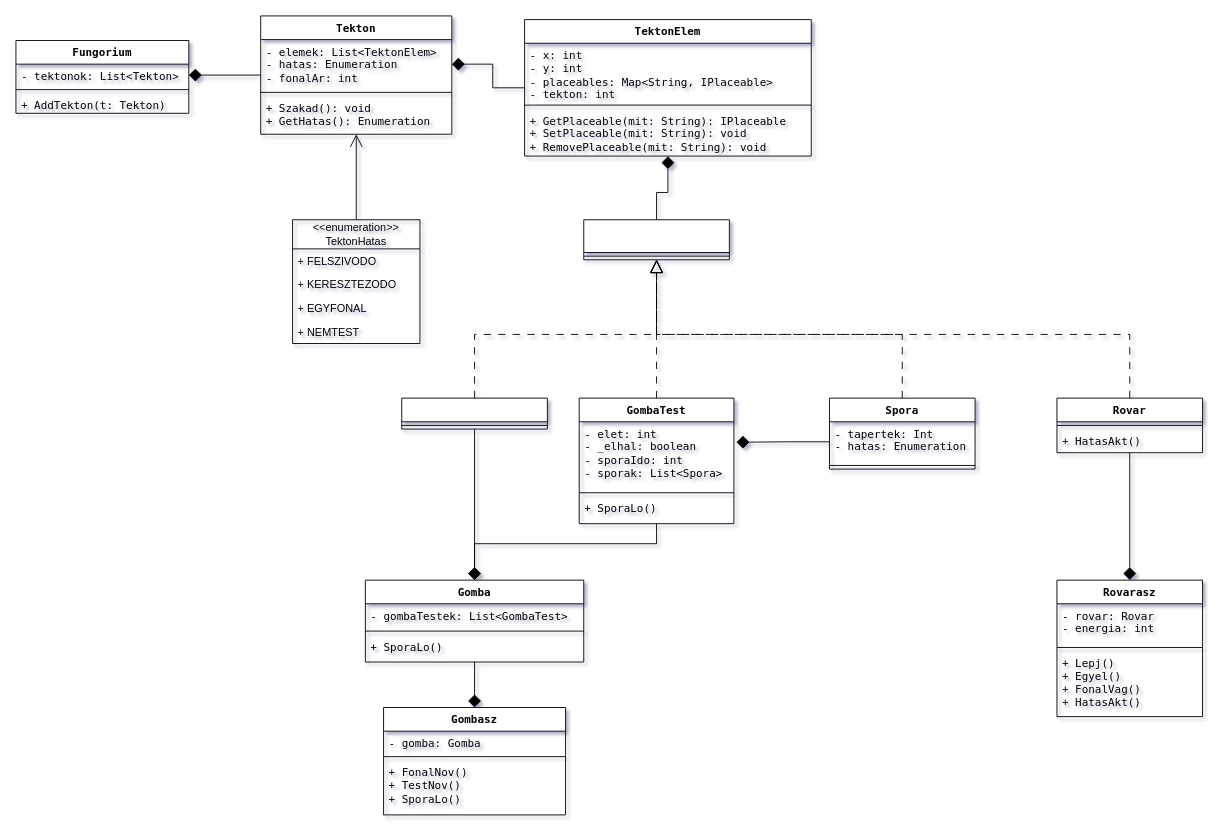
Image size: 1224x839. Some labels were removed from this diagram. Each missing label, with the centre of its shape:
"<<interface>> IPlaceable" goes at [656,239].
"Fonal" goes at [474,413].
